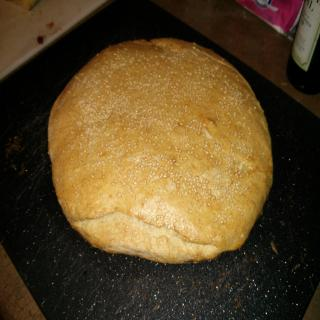Bread: (50, 40, 274, 260)
